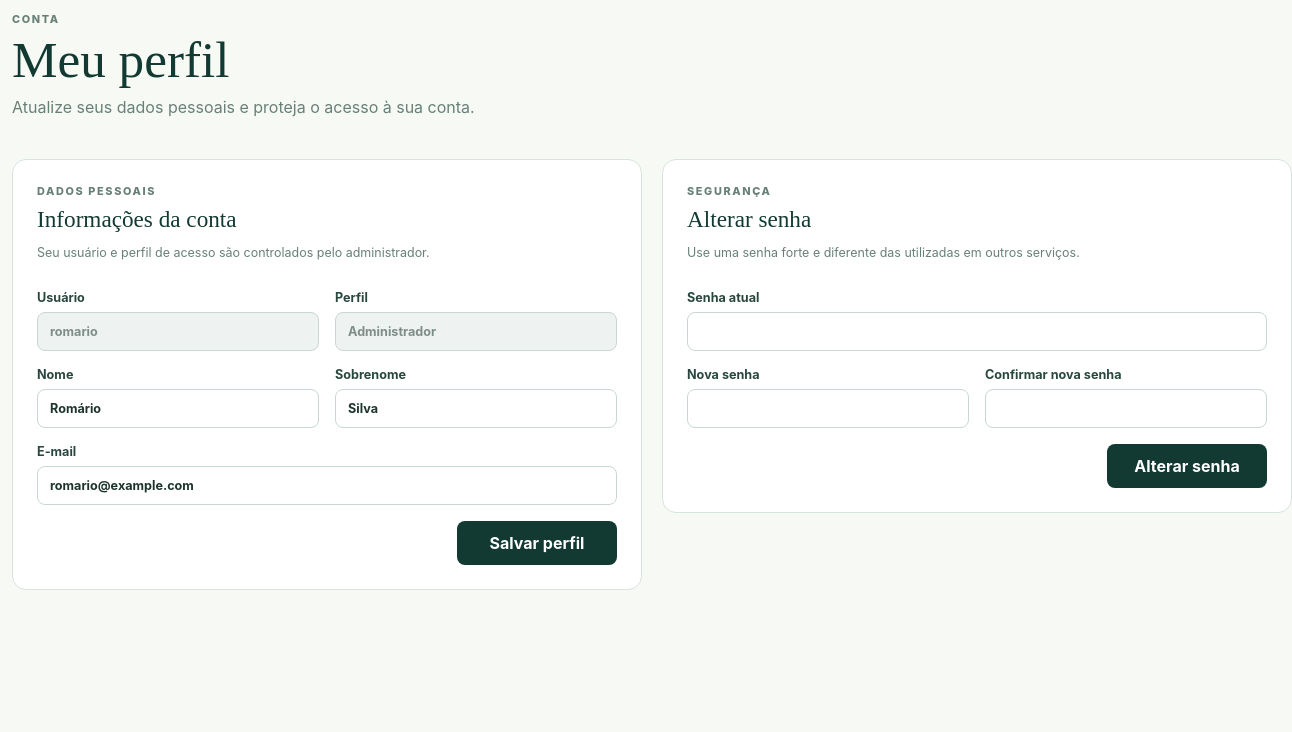
Test case: ProfilePage › altera a senha e limpa os campos
This screenshot has width=1292, height=732.
Type "senha-atual" into the password field labelled "Senha atual" at (977, 332), box 687,312 -> 1267,351
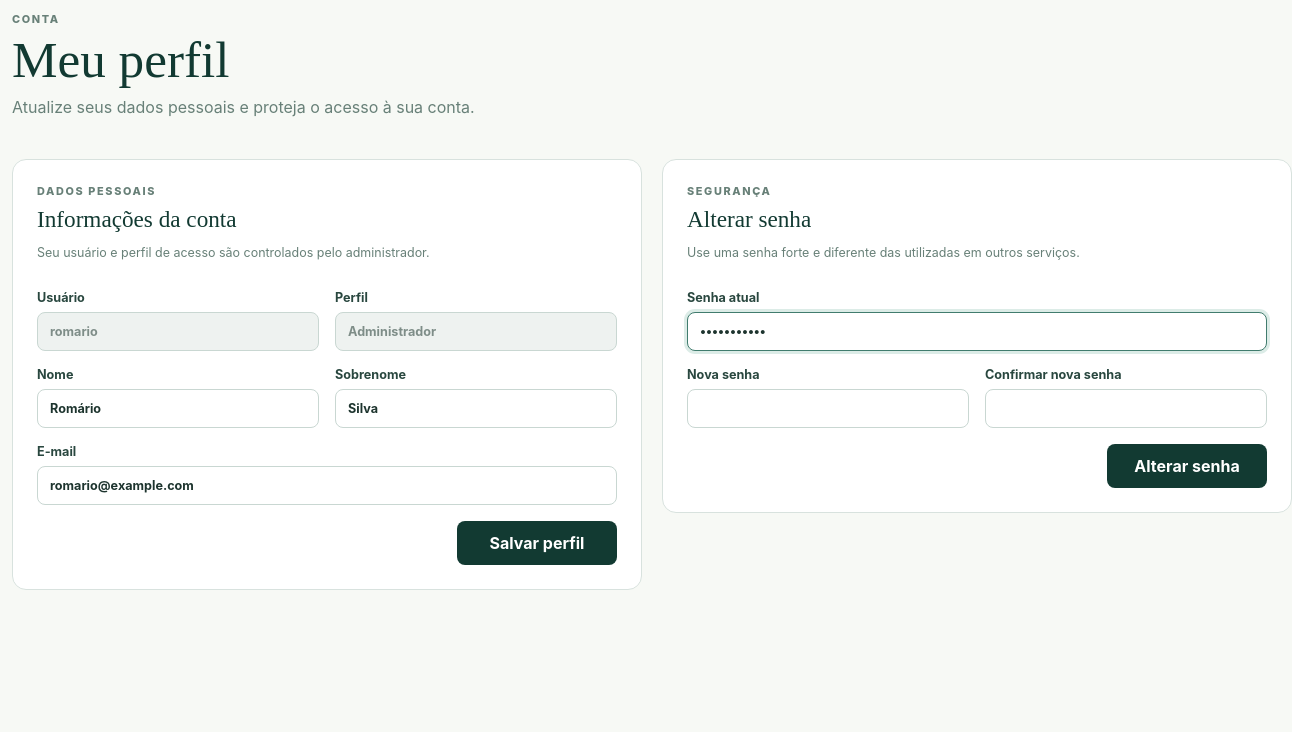
Type "nova-senha-segura" into the password field labelled "Nova senha" at (828, 409), box 687,389 -> 969,428
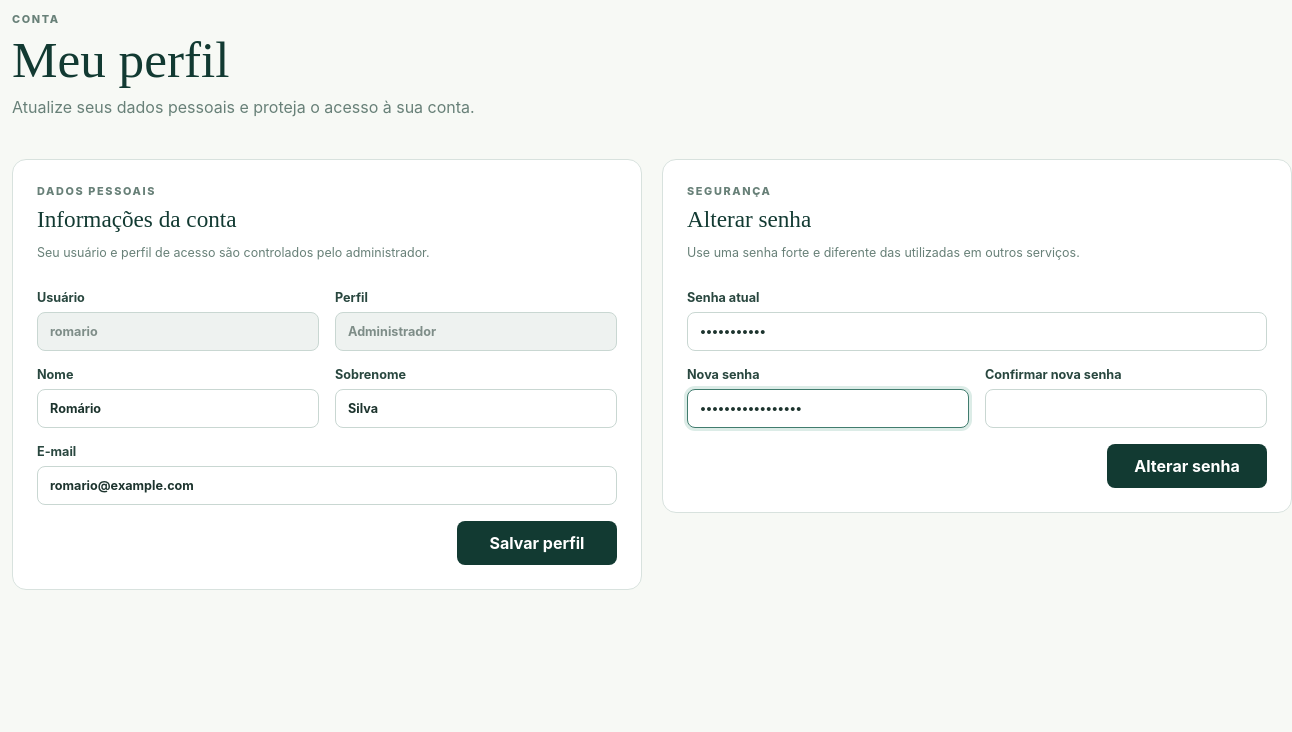
Type "nova-senha-segura" into the password field labelled "Confirmar nova senha" at (1126, 409), box 985,389 -> 1267,428
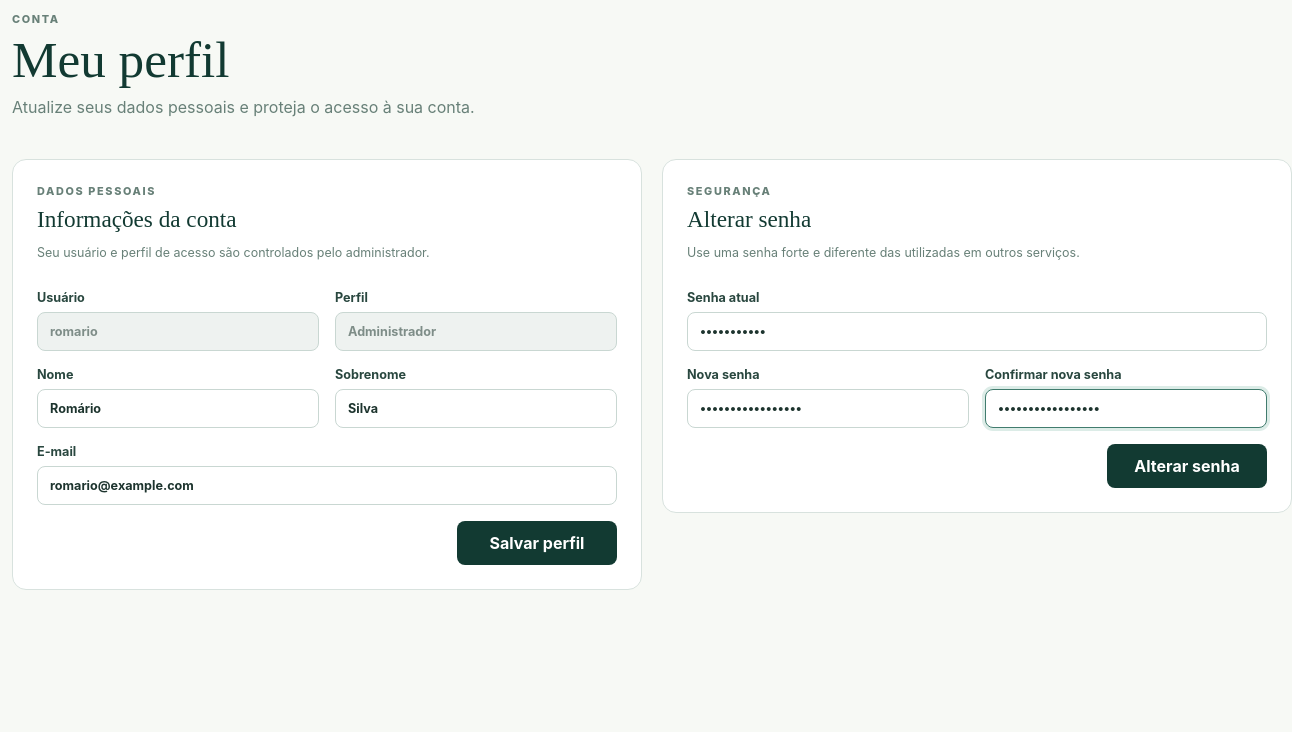
Click the button "Alterar senha" at (1187, 466), box 1107,444 -> 1267,488
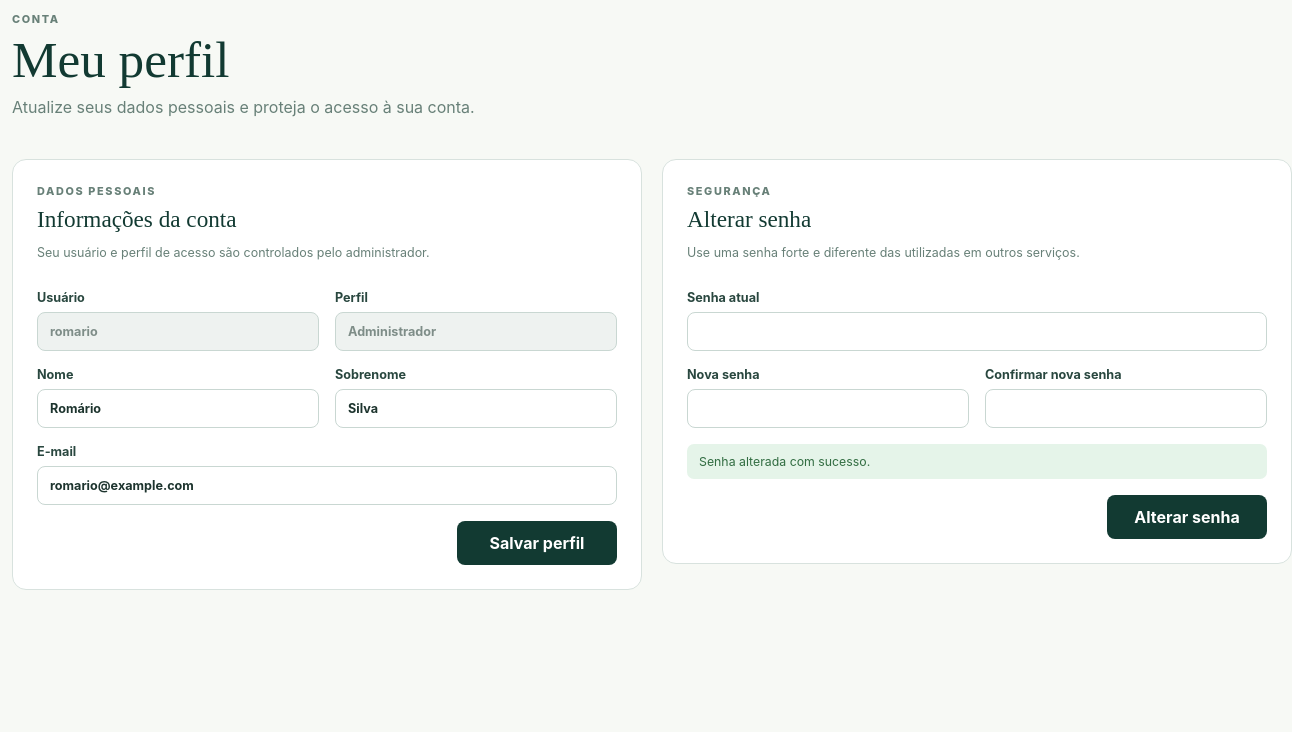
expect the text "Senha alterada com sucesso." is shown: met, box 687,444 -> 1267,479
expect the password field labelled "Senha atual" is empty: met, box 687,312 -> 1267,351
